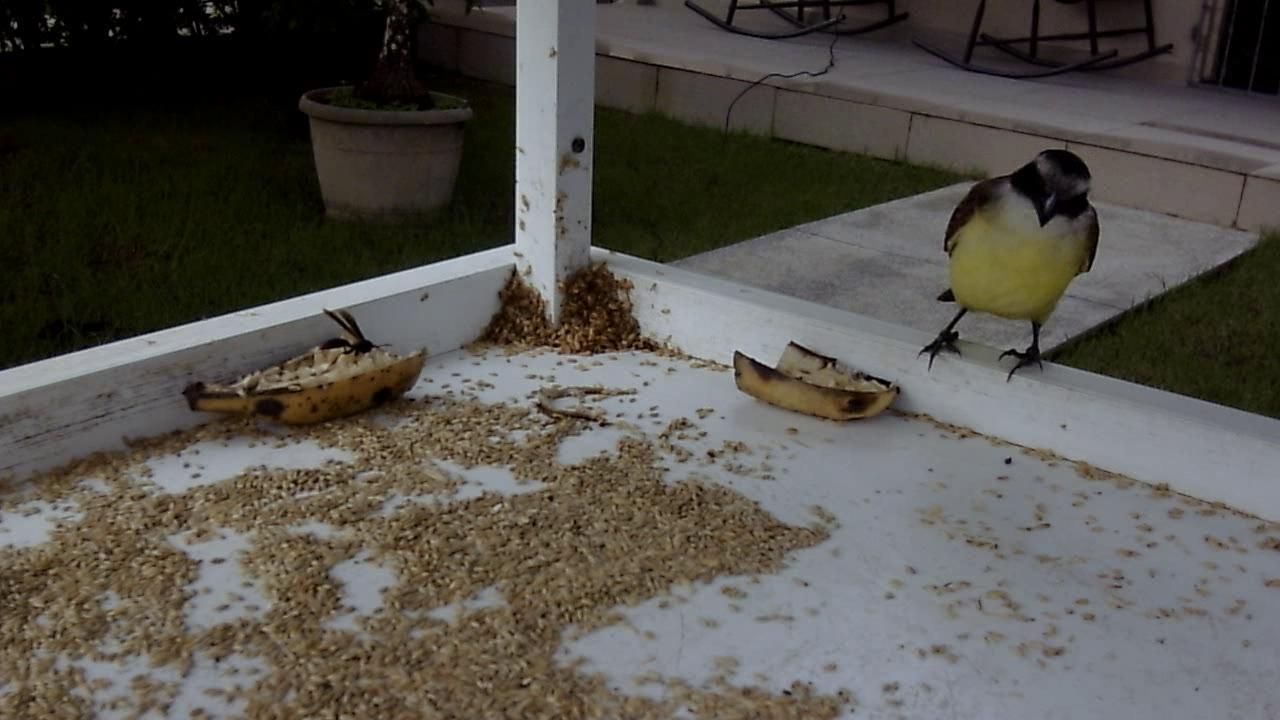bem_te_vi: (903, 137, 1109, 393)
